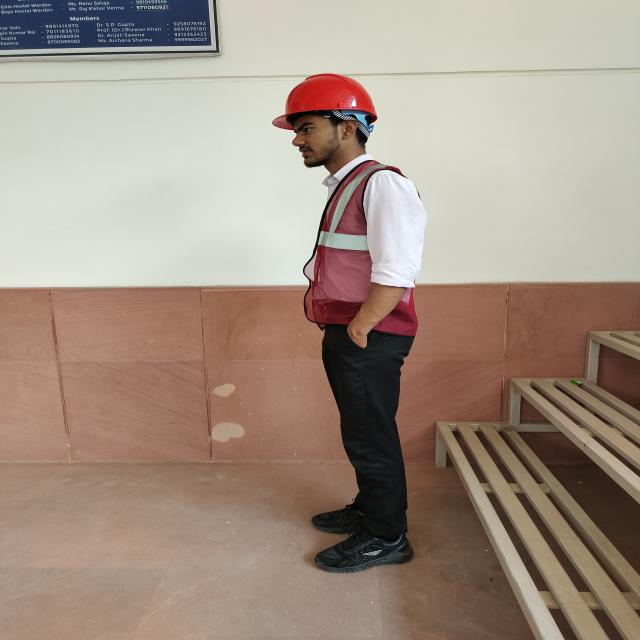safe: (271, 70, 426, 572)
